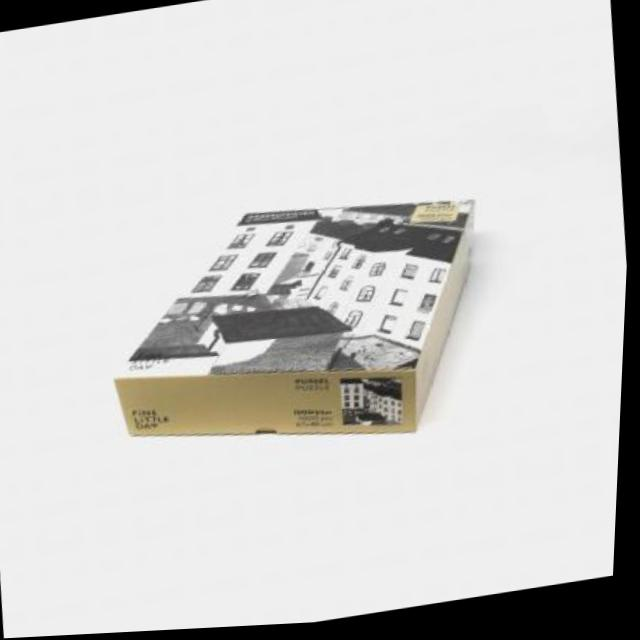box: (90, 163, 517, 502)
